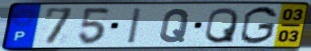5: (76, 6, 113, 46)
7: (43, 6, 76, 47)
G: (238, 5, 280, 46)
I: (126, 7, 144, 46)
Q: (202, 6, 240, 45), (158, 7, 193, 44)
